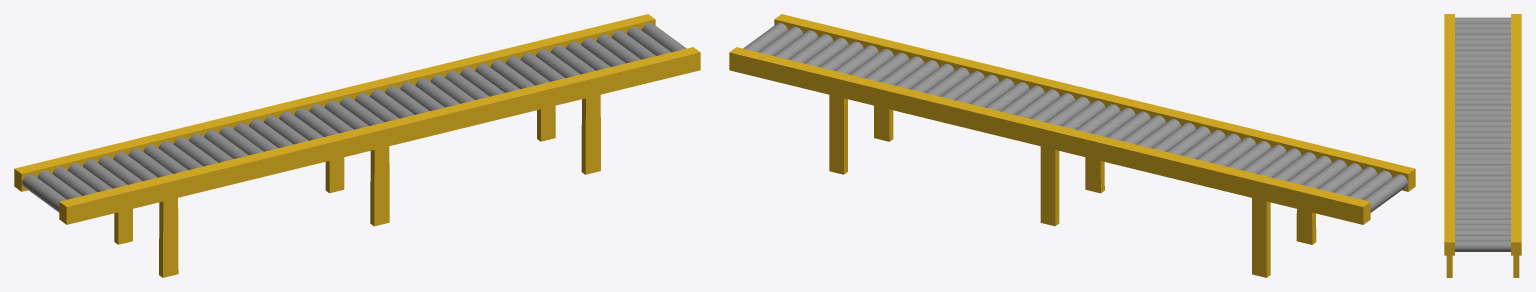
File: LongConveyor.fbx
3 views of the same model, side by side, from view 1: azimuth 30°, elevation 25°; view 2: azimuth 150°, elevation 25°; view 3: azimuth 270°, elevation 25° (orthographic). The views are drawn at different scales.
Parts seen in each view (by area): view 1: Cube.003; view 2: Cube.003; view 3: Cube.003.
Boxes of the visible parts, x1,y1,x2,y2 form: Cube.003: [14, 14, 700, 277]; Cube.003: [729, 14, 1415, 277]; Cube.003: [1444, 14, 1521, 277].
Bounding box in the file's own units: 1126 × 163 × 161.
